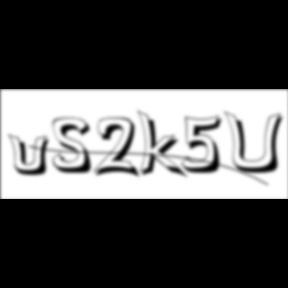2: (94, 117, 144, 181)
5: (182, 114, 228, 176)
S: (52, 117, 98, 176)
U: (224, 110, 288, 176)
k: (136, 108, 190, 181)
u: (8, 132, 56, 178)
